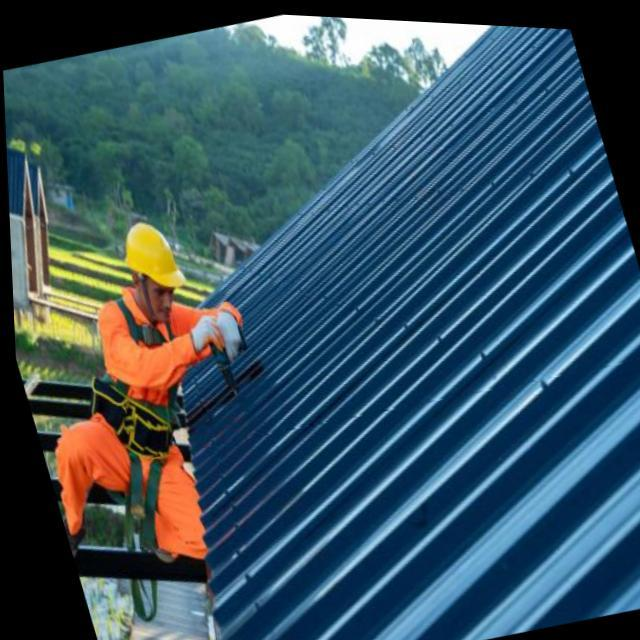belt: (49, 277, 218, 523)
